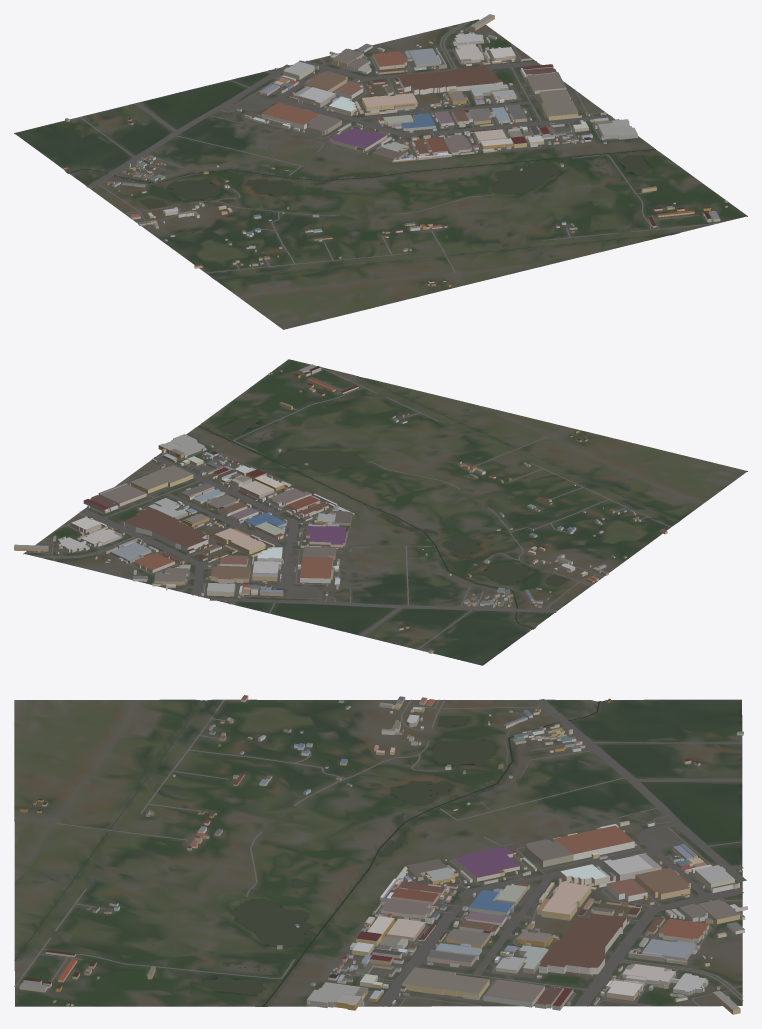
3 renders of one model, top to bottom at view 1: azimuth 30°, elevation 25°; view 2: azimuth 150°, elevation 25°; view 3: azimuth 270°, elevation 25°, orthographic. The views are drawn at different scales.
Parts seen in each view (by area): view 1: ground, buildings, roads, water; view 2: ground, buildings, roads, water; view 3: ground, buildings, roads, water.
Part boxes in pixels (x1,y1,x2,y2): ground: (14, 19, 747, 329); buildings: (63, 14, 727, 286); roads: (79, 21, 718, 273); water: (66, 149, 677, 278); ground: (23, 359, 747, 665); buildings: (14, 364, 667, 653); roads: (25, 367, 671, 649); water: (198, 376, 678, 628); ground: (14, 699, 742, 1006); buildings: (19, 695, 747, 1014); roads: (14, 699, 746, 1006); water: (14, 700, 600, 1006).
Bounding box in the file's own units: 1446 × 21.87 × 1414.
